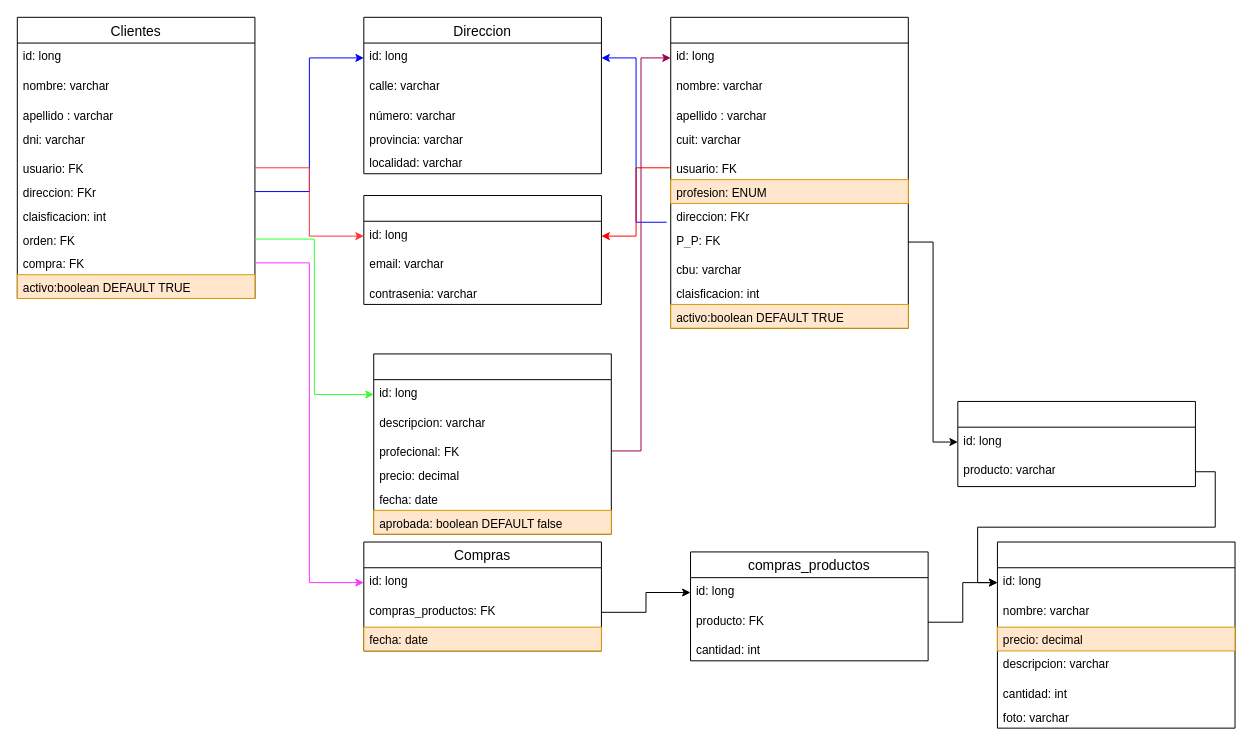
Some shapes in this 1252 by 748 pixel diagram are drawn without their labels. Each missing label, with the box of its shape:
ordenes: (373, 353, 611, 534)
productos: (996, 541, 1235, 728)
Profesionales: (670, 16, 908, 328)
Profesionales_productos: (957, 400, 1195, 487)
Usuarios: (363, 195, 601, 304)
